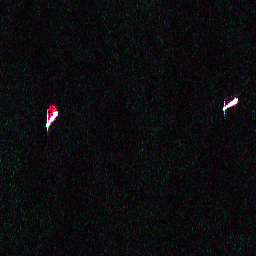ship: (220, 95, 240, 113), (43, 109, 60, 130)
